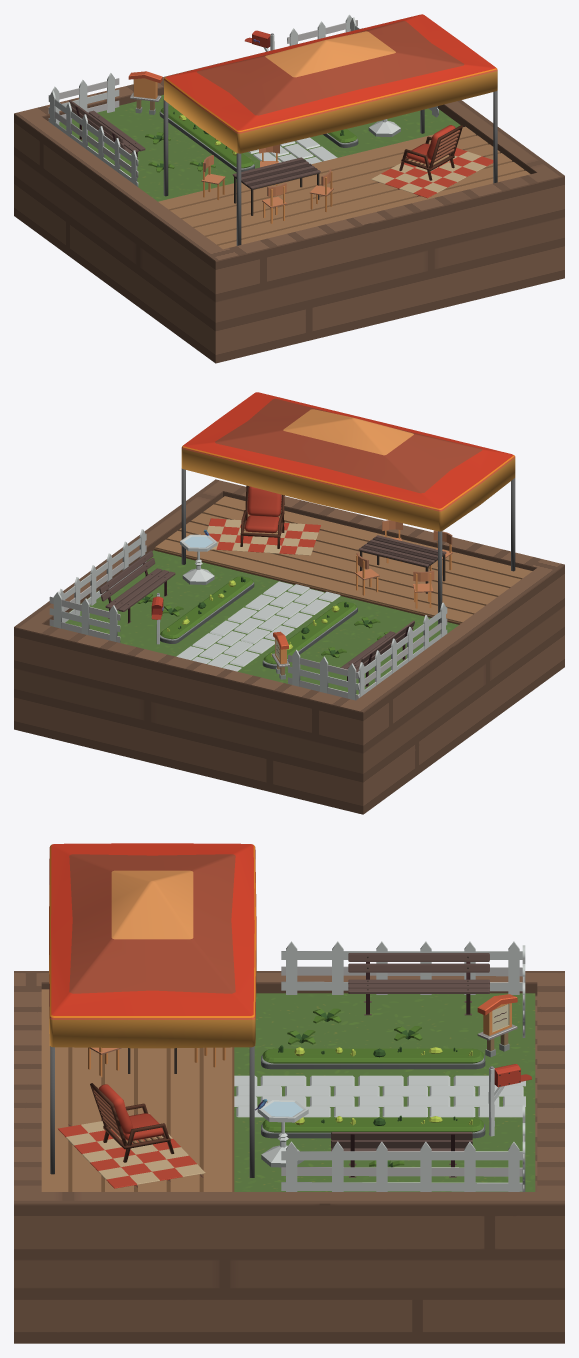
File: booth_builder_scene.glb
The picture shows the model from 3 angles, top to bottom: view 1: azimuth 30°, elevation 25°; view 2: azimuth 150°, elevation 25°; view 3: azimuth 270°, elevation 25°; orthographic projection. The views are drawn at different scales.
Parts seen in each view (by area): view 1: Canopy_02, Cube.379; view 2: Canopy_02, Cube.379; view 3: Canopy_02, Cube.379.
Boxes of the visible parts, x1,y1,x2,y2 form: Canopy_02: [48, 14, 530, 249]; Cube.379: [14, 28, 564, 363]; Canopy_02: [49, 392, 532, 700]; Cube.379: [14, 479, 564, 814]; Canopy_02: [41, 843, 535, 1191]; Cube.379: [14, 971, 564, 1343].
Size of what is drawn, in the model's own units: 3.26 by 2.2 by 3.26.
Materials: 3 (3 with a texture image).
